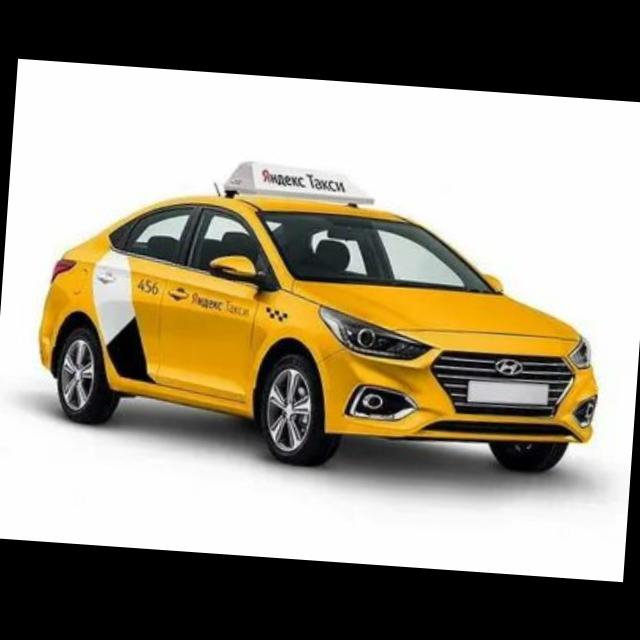taxi: (30, 145, 613, 488)
